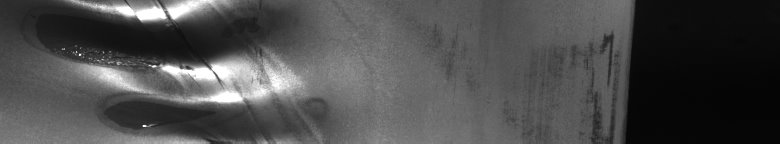ke: (62, 4, 267, 136)
